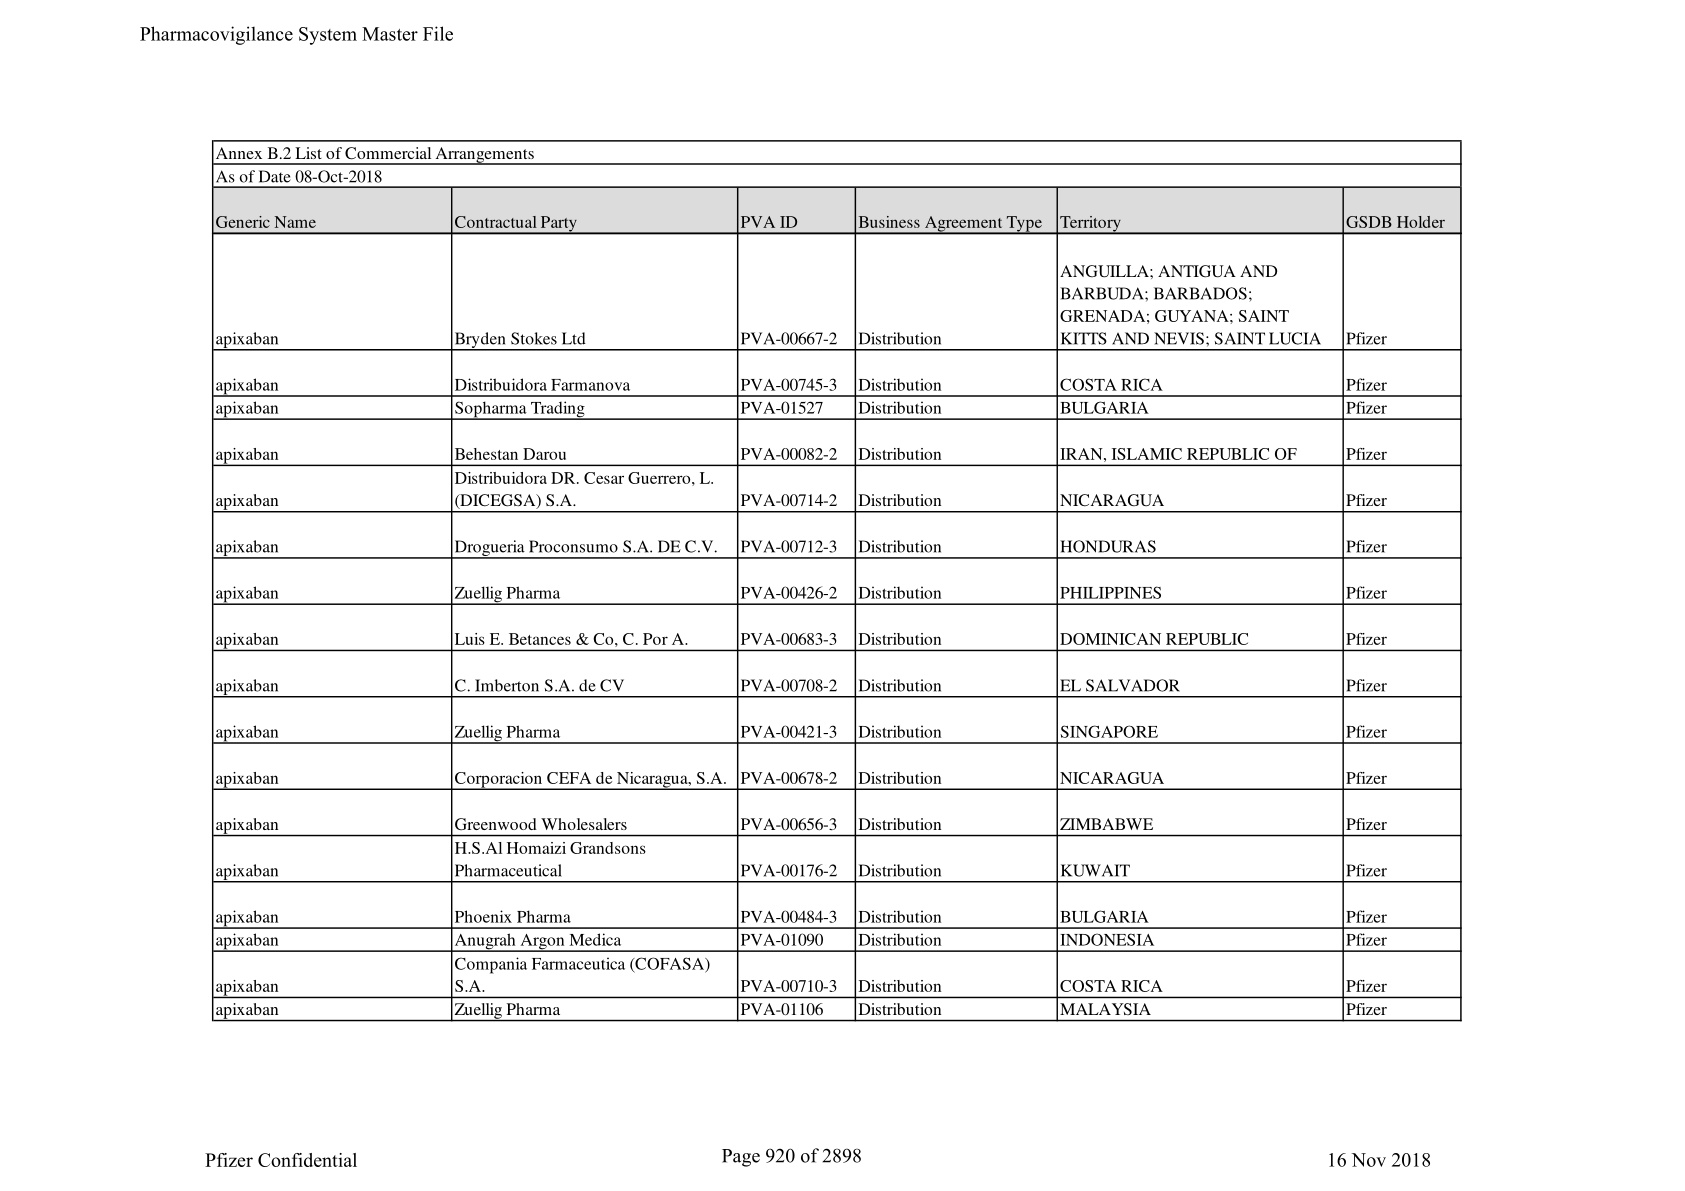merged_cells: (211, 138, 1463, 1023)
